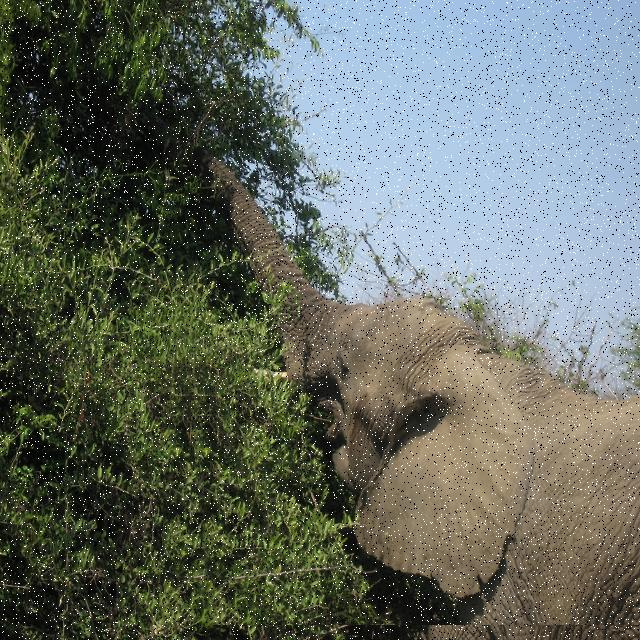elephant: (165, 151, 640, 625)
